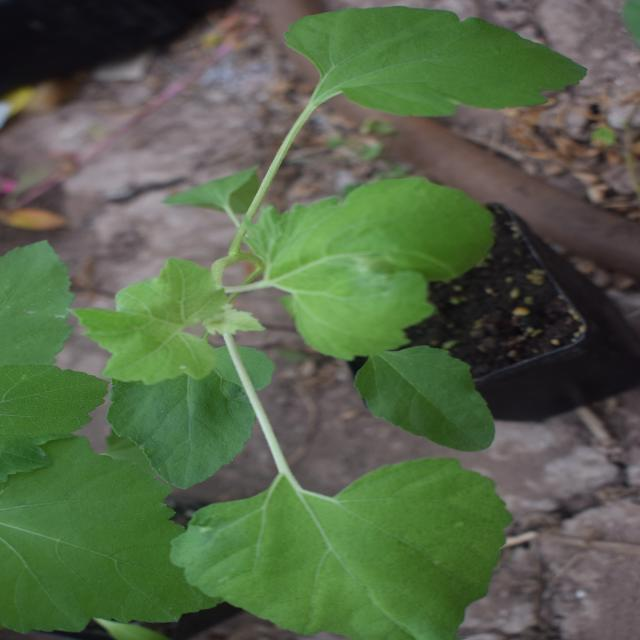cocklebur: (7, 82, 625, 555)
